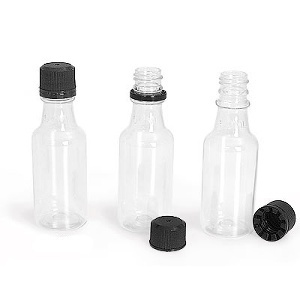emptybottle: (120, 66, 174, 238), (33, 62, 87, 232), (203, 71, 256, 238)
